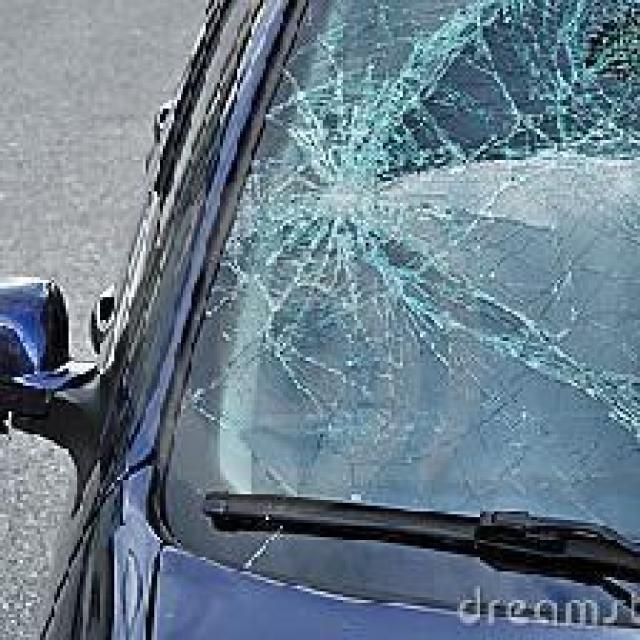damaged: (200, 6, 637, 503)
